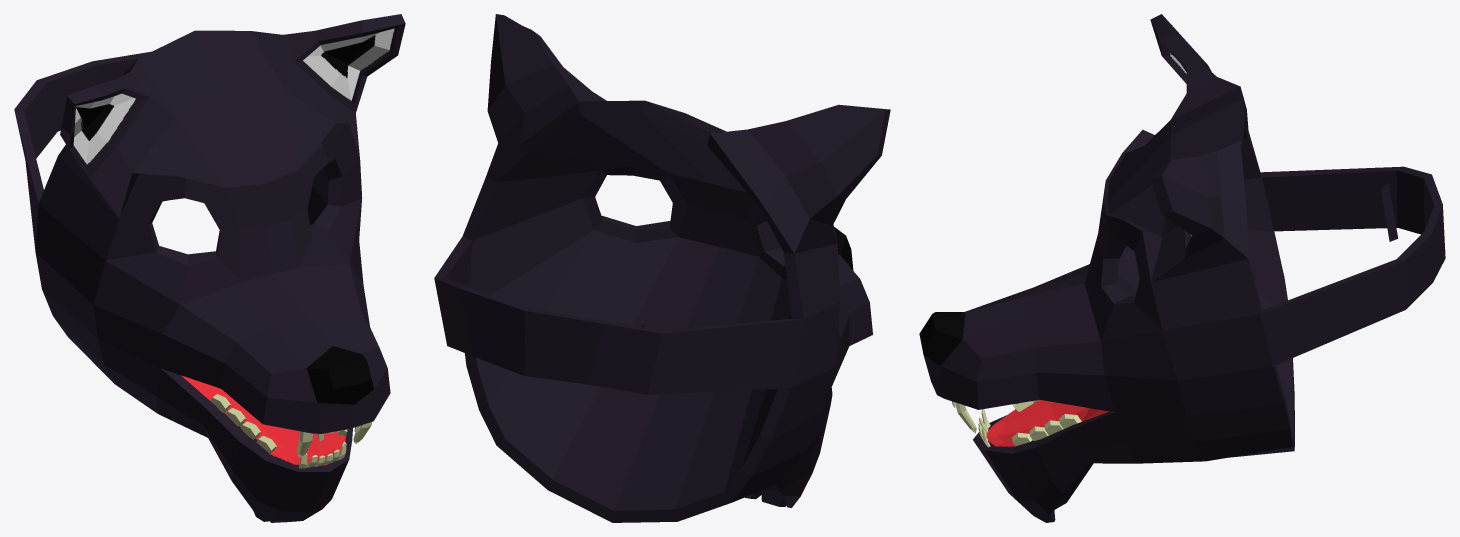
Rendered from WolfMask.fbx.
The picture shows the model from 3 angles, left to right: view 1: azimuth 30°, elevation 25°; view 2: azimuth 150°, elevation 25°; view 3: azimuth 270°, elevation 25°; orthographic projection. The views are drawn at different scales.
Parts seen in each view (by area): view 1: Wolf Mask Export; view 2: Wolf Mask Export; view 3: Wolf Mask Export.
Part boxes in pixels (x1,y1,x2,y2): Wolf Mask Export: (14,14,405,522); Wolf Mask Export: (434,14,890,522); Wolf Mask Export: (919,14,1445,522).
Size of the model in its own units: 32.3 by 38.9 by 44.39.
Materials: 1 (1 with a texture image).
